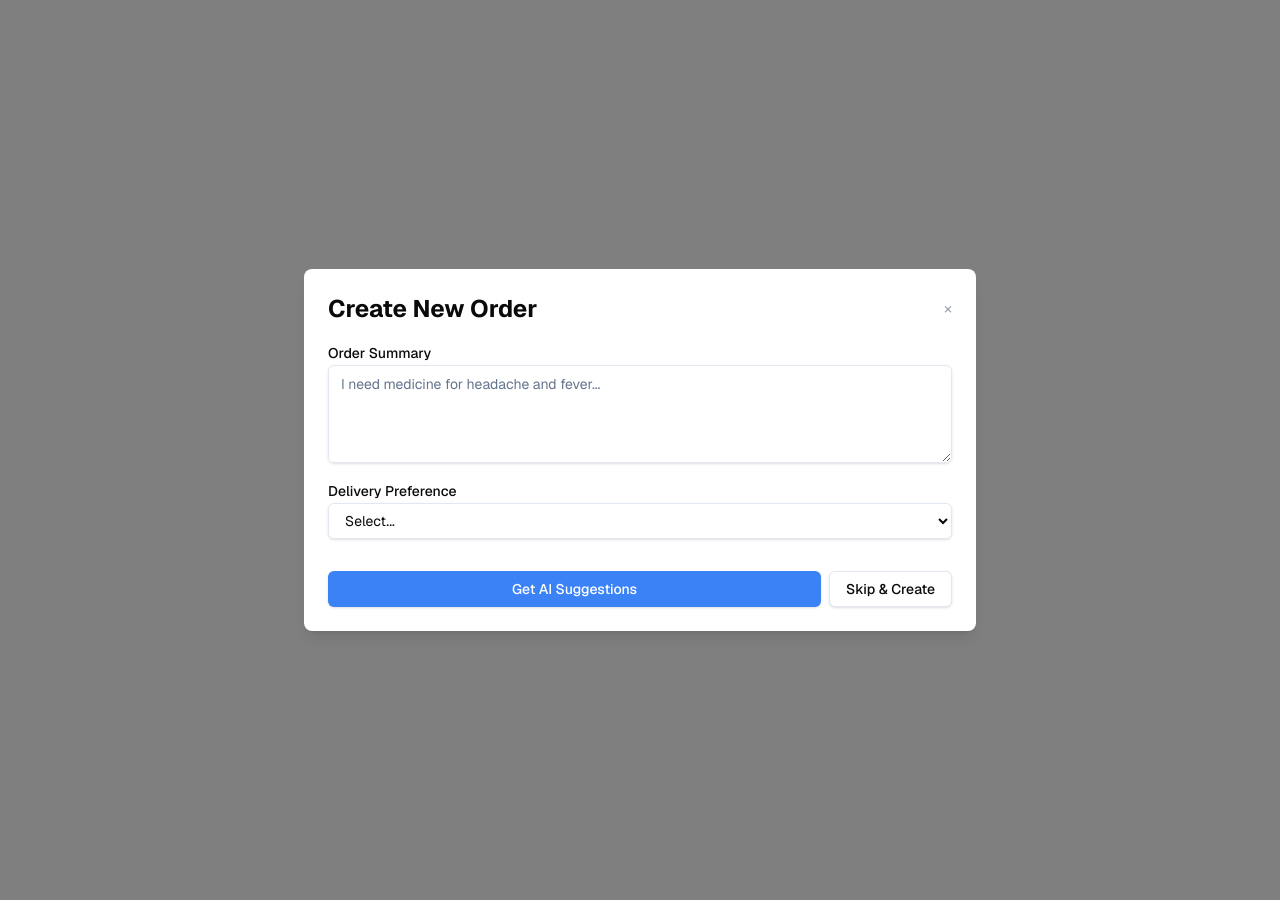
Test: Conditional Fields - CreateOrderDialog › should hide delivery address when switching from DELIVERY to IN_STORE
The image size is (1280, 900).
Select "Home Delivery" in the dropdown labelled "Delivery Preference": (640, 521) [328,503,952,539]
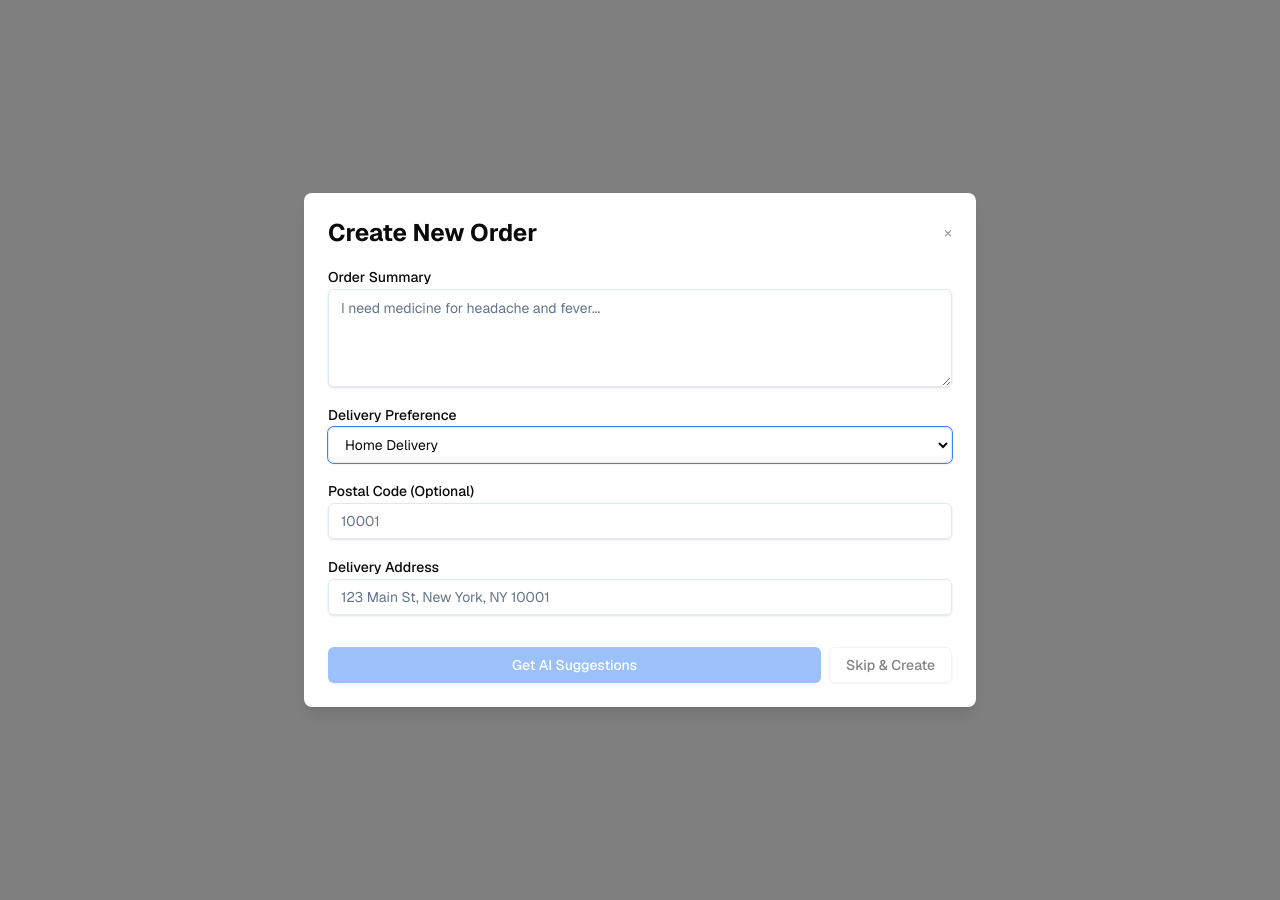
Expected: the field labelled "Delivery Address" is shown, [328,579,952,615]
Select "In-Store Pickup" in the dropdown labelled "Delivery Preference": (640, 445) [328,427,952,463]
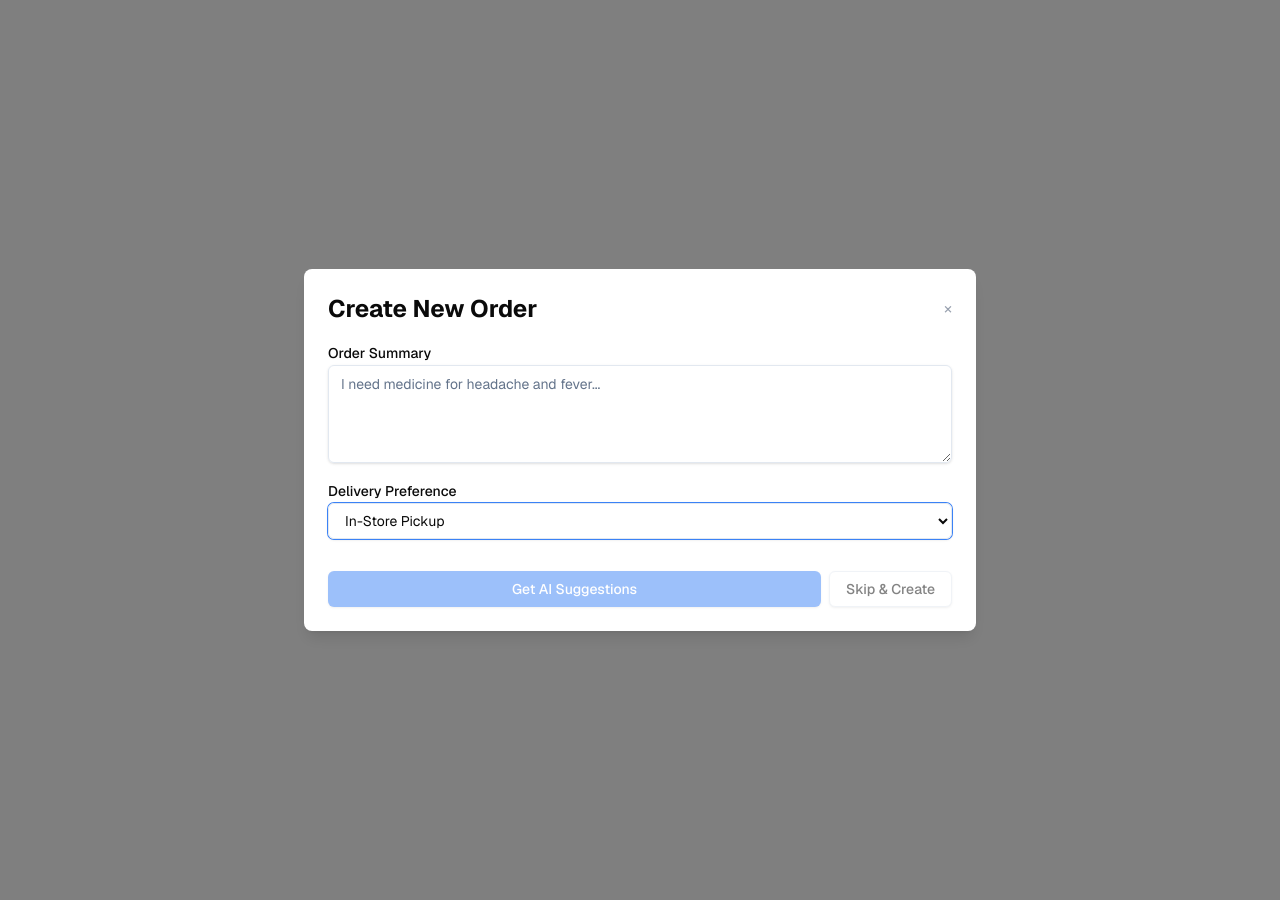
Expected: the label labelled "Delivery Address" is gone
